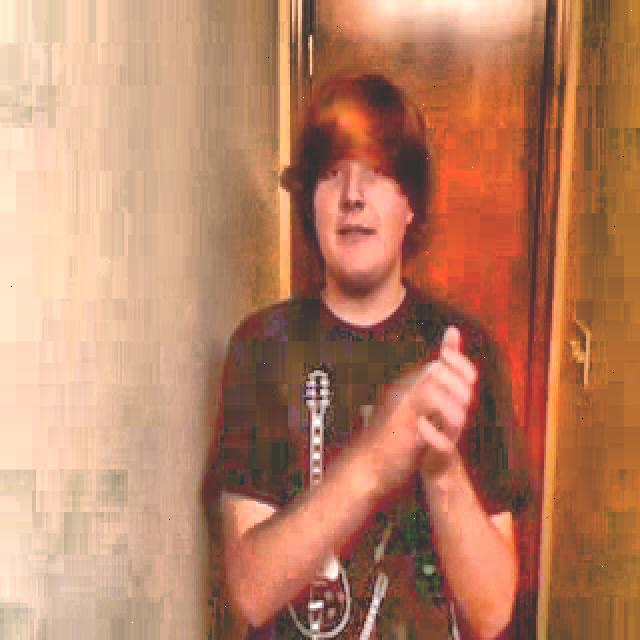F: (231, 88, 497, 640)
